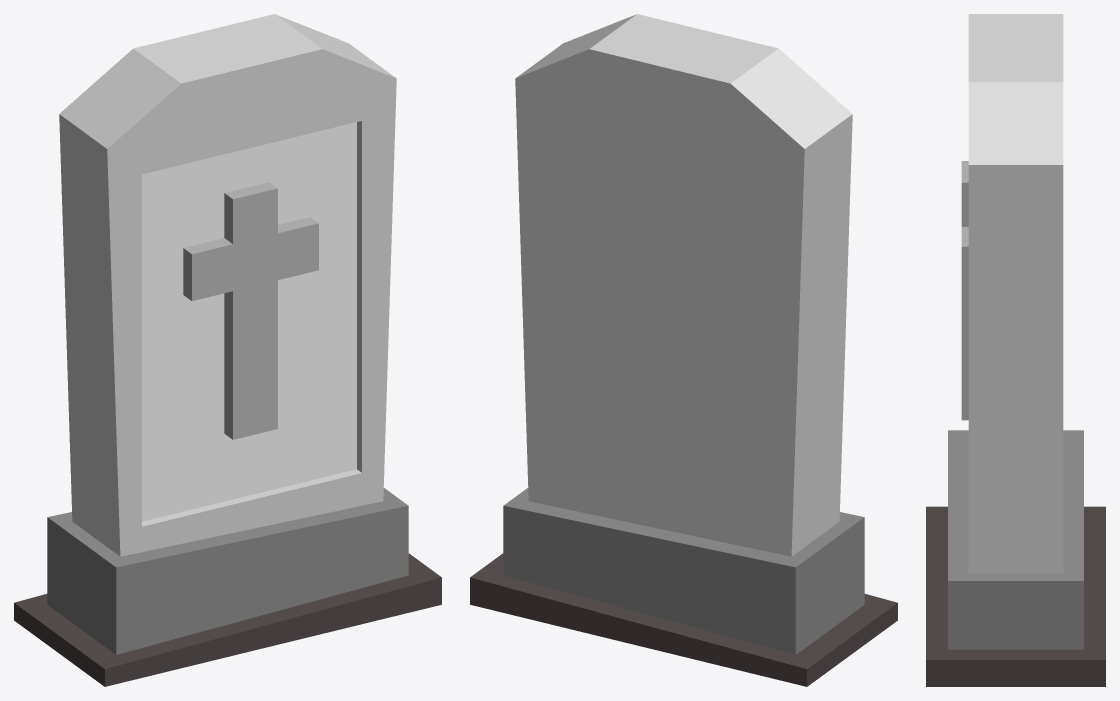
File: HWN20_Grave_16.glb
3 views of the same model, side by side, from view 1: azimuth 30°, elevation 25°; view 2: azimuth 150°, elevation 25°; view 3: azimuth 270°, elevation 25° (orthographic).
Parts seen in each view (by area): view 1: HWN20_Grave_16; view 2: HWN20_Grave_16; view 3: HWN20_Grave_16.
Boxes of the visible parts, x1,y1,x2,y2 form: HWN20_Grave_16: (14, 14, 441, 686); HWN20_Grave_16: (470, 14, 897, 686); HWN20_Grave_16: (926, 14, 1105, 686).
Size of what is drawn, in the model's own units: 0.9895 by 1.58 by 0.4619.
1 material, 1 textured.
